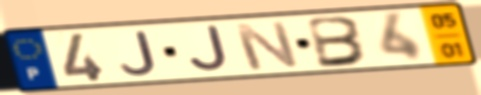4: (376, 9, 427, 66), (59, 30, 108, 84)
B: (306, 15, 372, 70)
J: (186, 24, 232, 74), (118, 29, 160, 78)
N: (230, 19, 304, 72)
